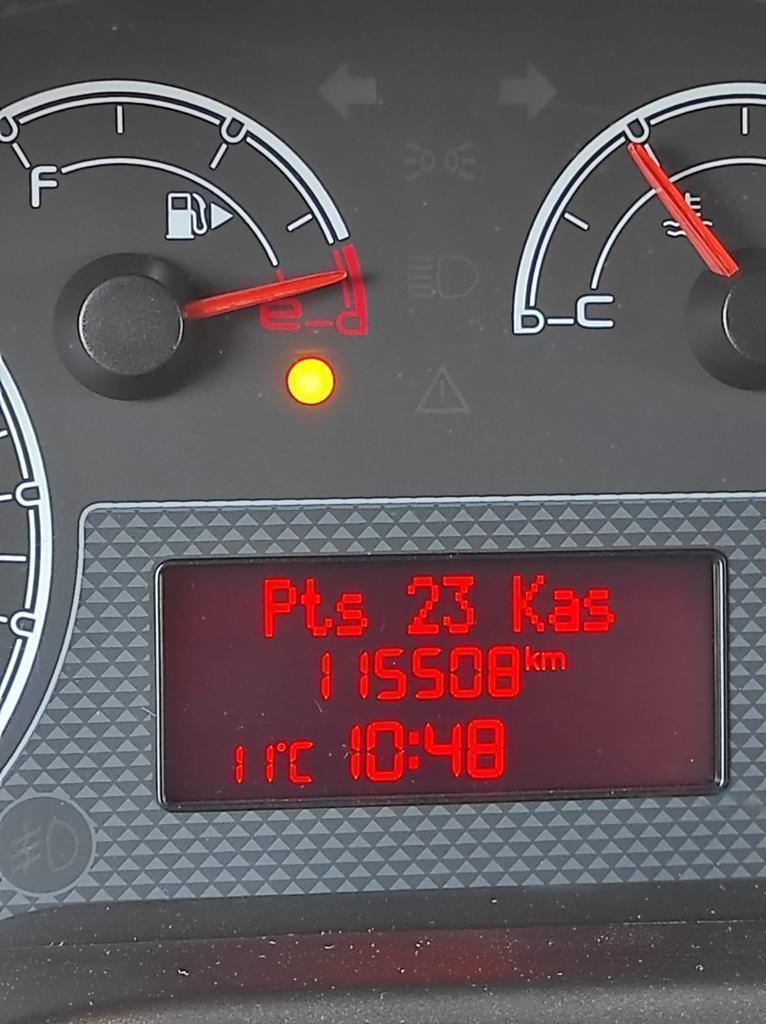0: (364, 719, 405, 783), (448, 644, 484, 700)
1: (347, 721, 363, 782), (318, 649, 332, 701), (357, 649, 370, 701), (232, 744, 246, 786), (263, 743, 274, 784)
2: (405, 574, 440, 636)
3: (441, 573, 476, 635)
4: (423, 721, 463, 780)
5: (371, 647, 407, 701), (410, 645, 445, 700)
8: (465, 717, 506, 780), (487, 644, 522, 699)
X: (261, 577, 298, 640), (298, 576, 334, 638), (510, 573, 546, 634), (335, 591, 370, 638), (581, 587, 615, 633), (547, 587, 581, 633), (287, 740, 315, 784), (406, 730, 422, 770), (540, 650, 567, 671), (523, 645, 540, 672)
odometer: (152, 545, 732, 814)
